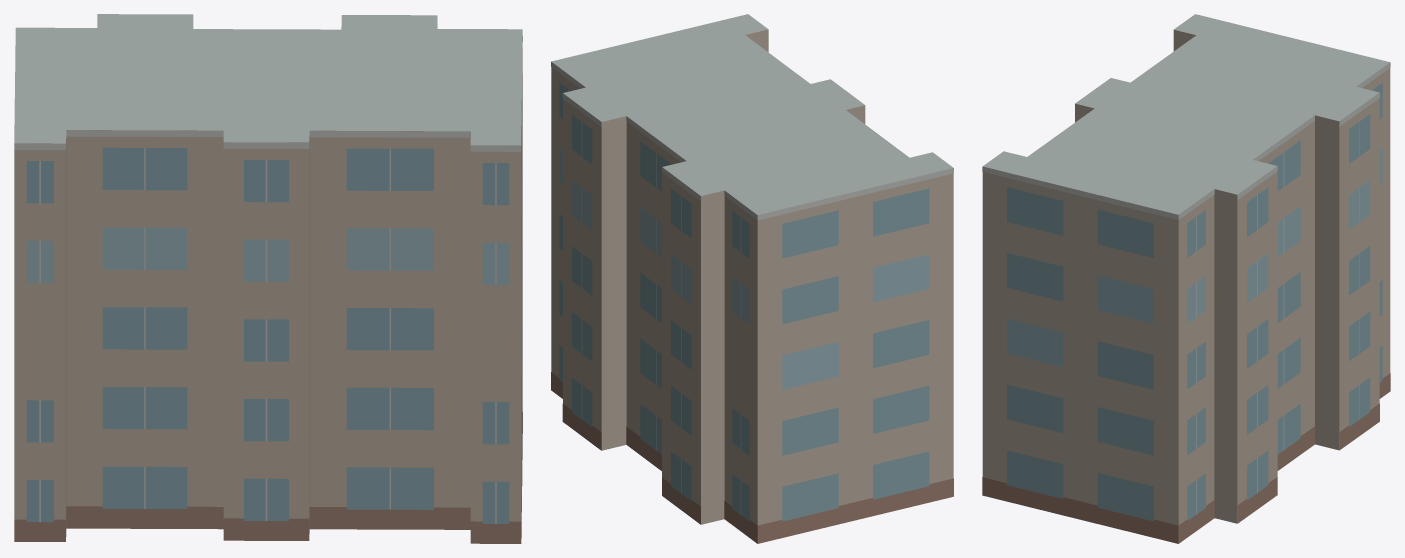
File: survey-upis-33023363.glb
The picture shows the model from 3 angles, left to right: view 1: azimuth 30°, elevation 25°; view 2: azimuth 150°, elevation 25°; view 3: azimuth 270°, elevation 25°; orthographic projection. The views are drawn at different scales.
Visible parts, largest first — view 1: survey-upis-33023363.tmp; view 2: survey-upis-33023363.tmp; view 3: survey-upis-33023363.tmp.
Part boxes in pixels (x1,y1,x2,y2): survey-upis-33023363.tmp: [14, 14, 522, 543]; survey-upis-33023363.tmp: [551, 14, 953, 543]; survey-upis-33023363.tmp: [982, 14, 1390, 543].
Bounding box in the file's own units: 19.51 × 14.9 × 16.75.
